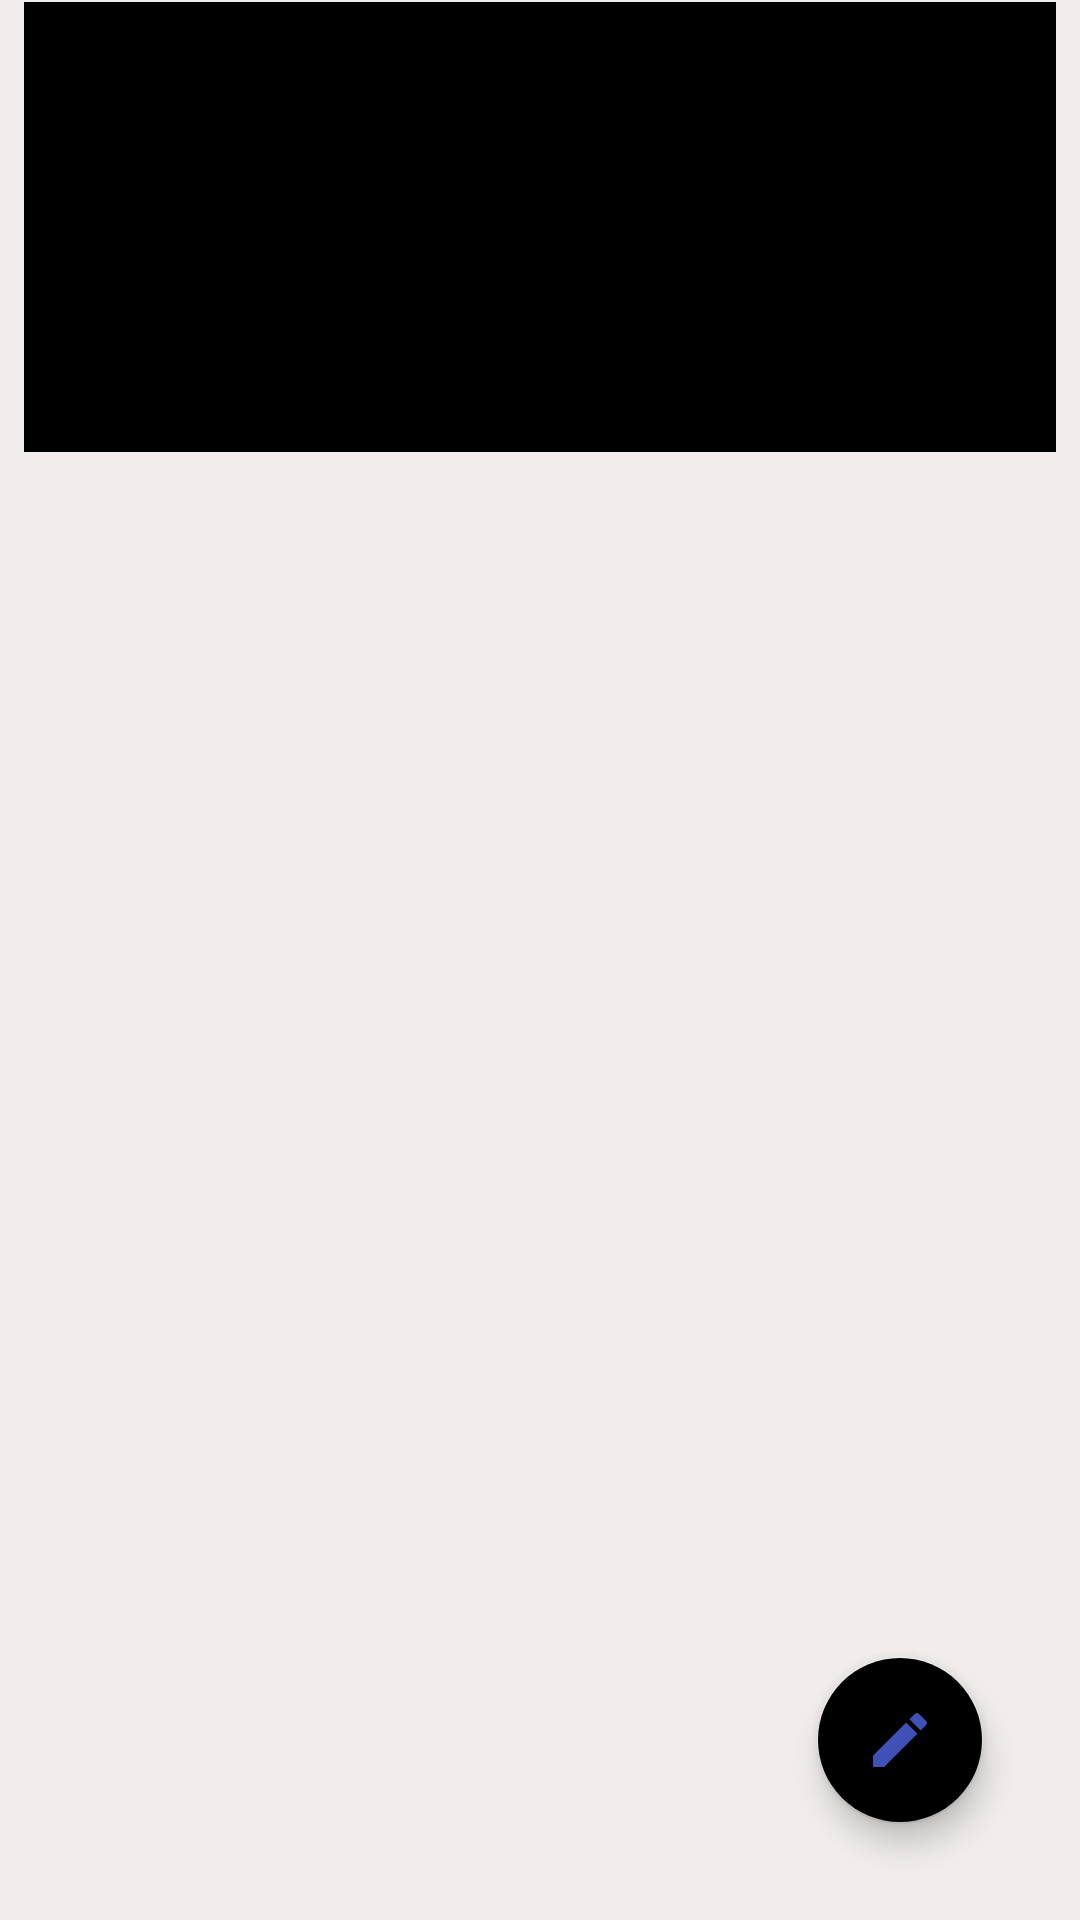

Point at icon controls on the screen. Image size 1080px×1920px, points as (x,y).
edit: (901,1741)
